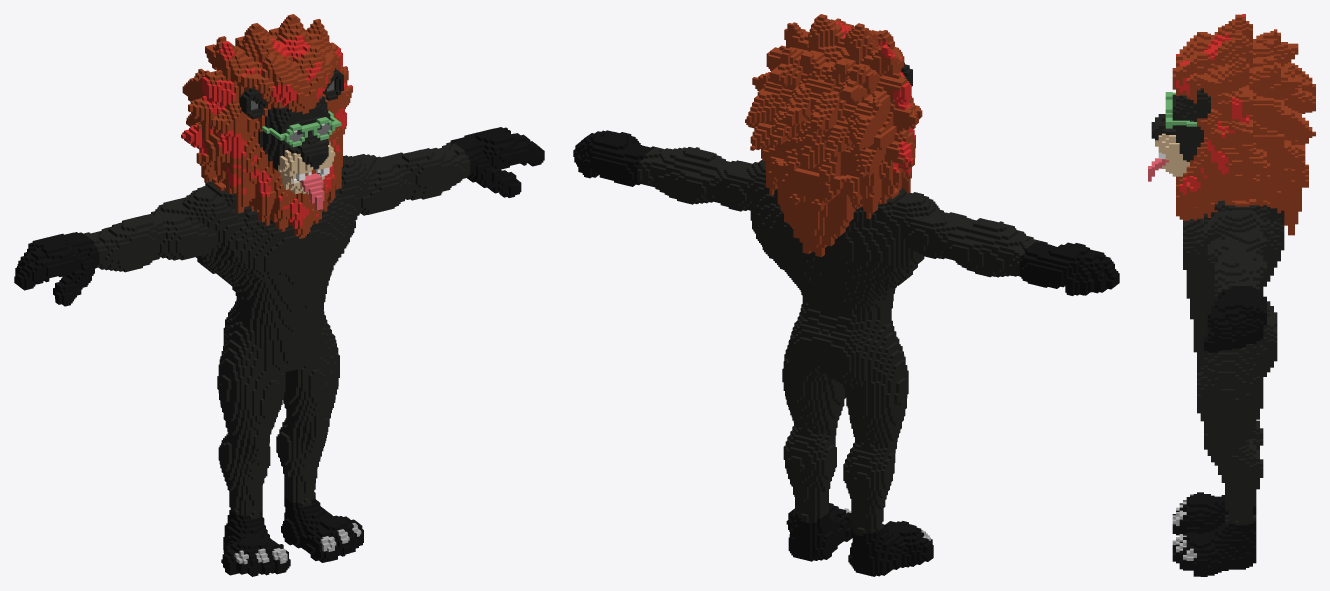
The picture shows the model from 3 angles, left to right: view 1: azimuth 30°, elevation 25°; view 2: azimuth 150°, elevation 25°; view 3: azimuth 270°, elevation 25°; orthographic projection. The views are drawn at different scales.
Parts seen in each view (by area): view 1: tongue_out; view 2: tongue_out; view 3: tongue_out.
Boxes of the visible parts, x1,y1,x2,y2 form: tongue_out: (14,14,544,576); tongue_out: (573,14,1119,576); tongue_out: (1148,14,1315,576).
Size of the model in its own units: 17.2 by 16.5 by 4.8.
4 materials, 4 textured.
